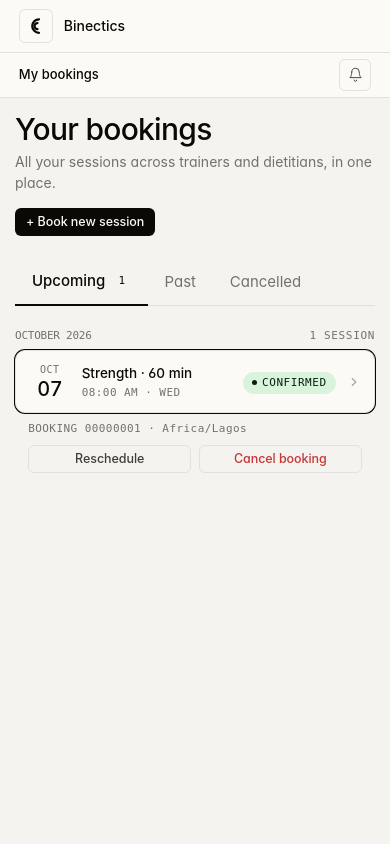
My bookings › mounts once in a provider shell
This screenshot has width=390, height=844.
Expected: the text "Strength · 60 min" is shown, top-left (82, 362), bottom-right (232, 383)
Note: One cancel dialog, so its unsaved-changes guard is the one being typed in.
Click the button "Cancel booking" at (280, 459), box top-left (199, 445), bottom-right (362, 473)
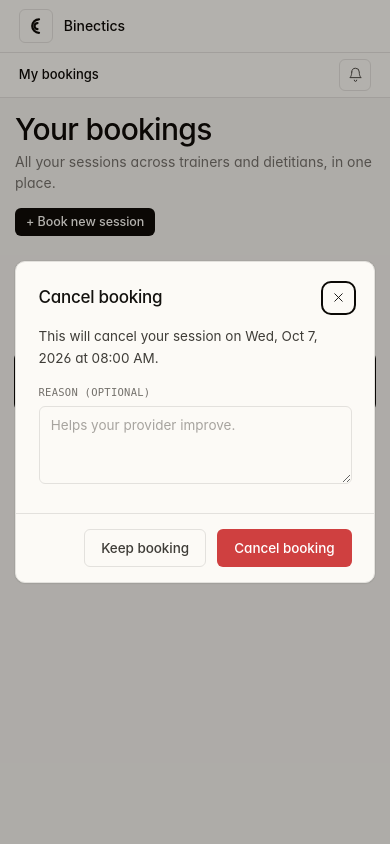
Now the number of dialogs is 1, box top-left (15, 261), bottom-right (375, 583)
Now the text "This will cancel your session" is shown, box top-left (38, 328), bottom-right (318, 366)
